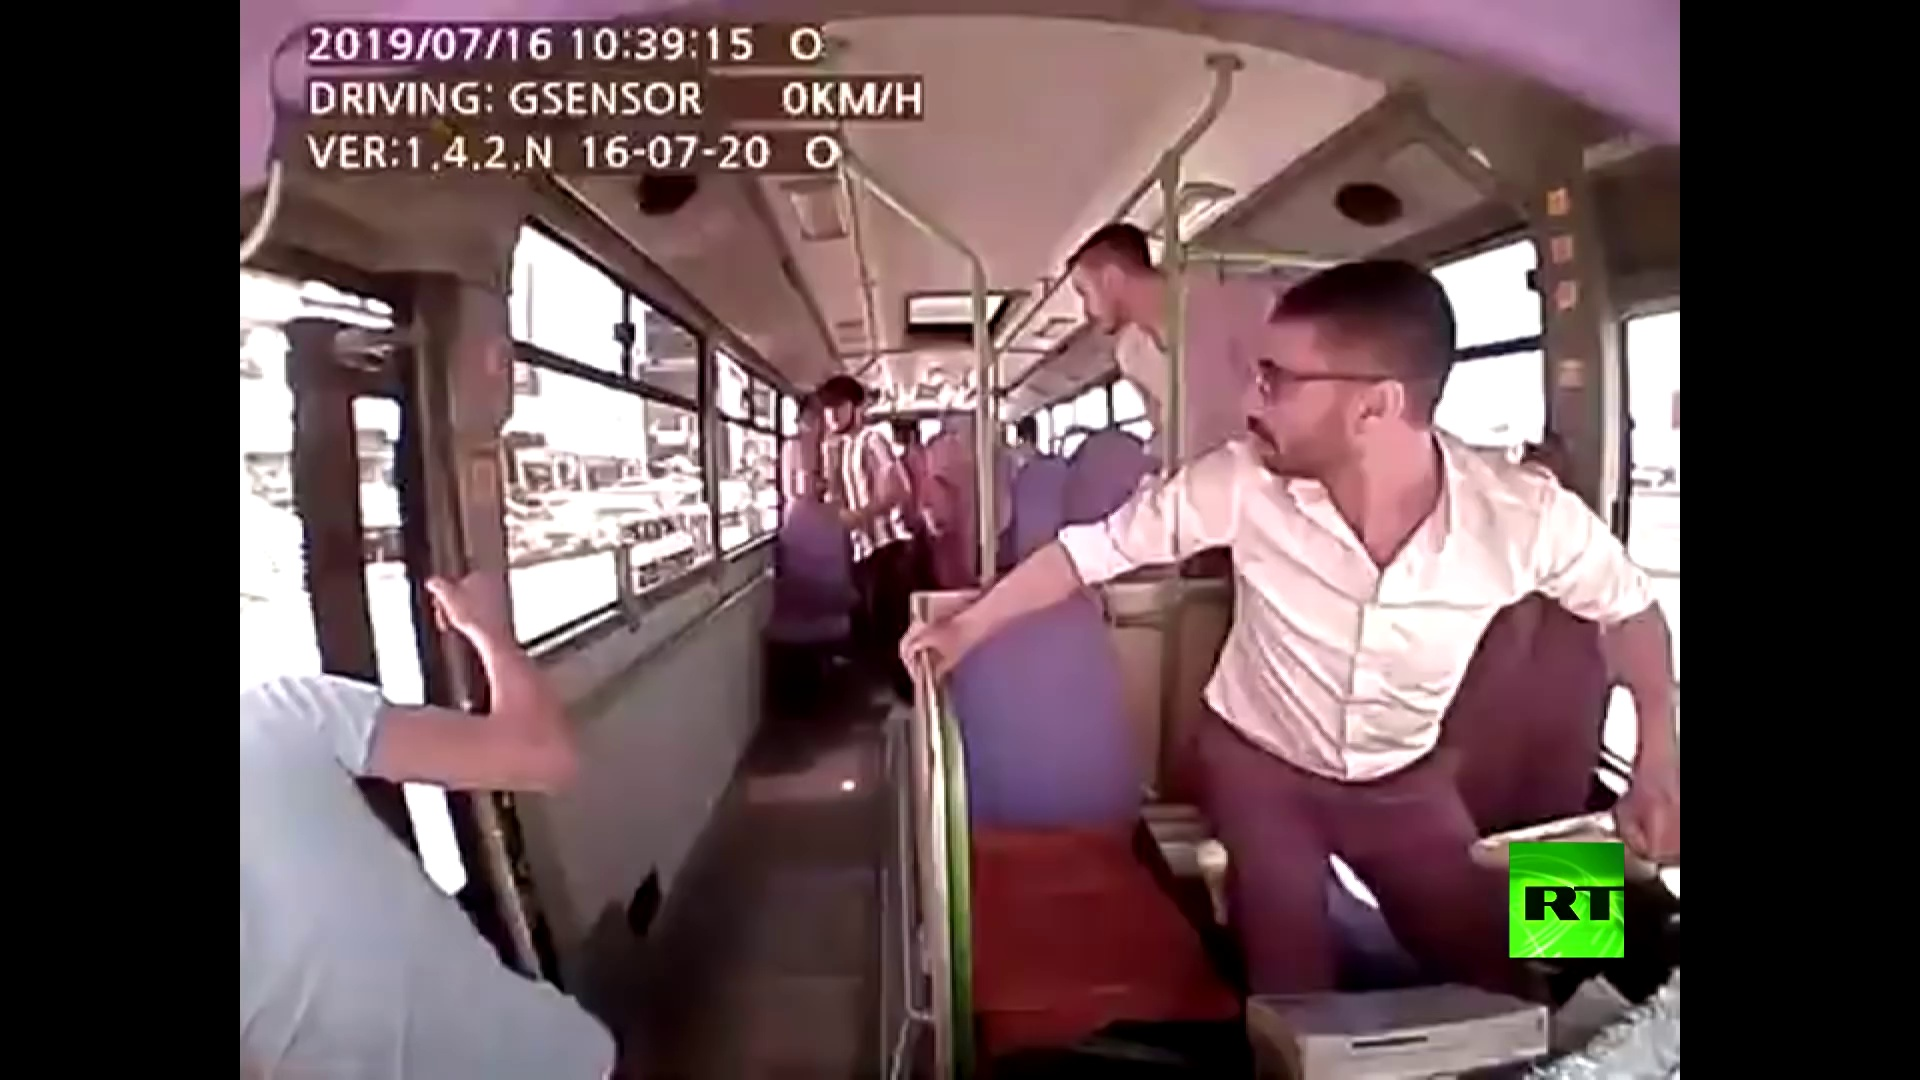face: (1226, 319, 1366, 481), (1073, 253, 1114, 336), (815, 389, 858, 432)
